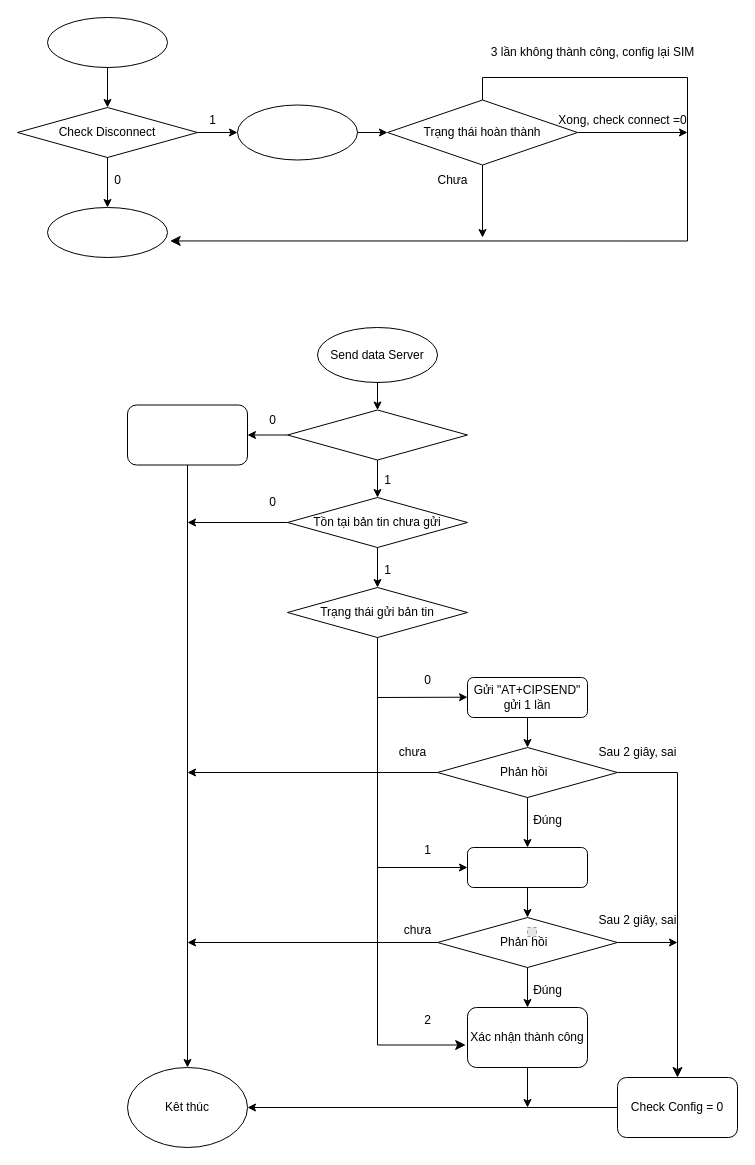
This 755x1165 diagram has some shape labels left out. Grey dashed boxes stand in for pictures. Each missing label, with the centre of its shape:
Check Disconnect Server: (x=107, y=42)
Check Send_data: (x=377, y=434)
Connect SIM: (x=297, y=132)
Gửi bản tin gửi 1 lần: (x=527, y=867)
Kết thúc: (x=107, y=232)
Nếu có tin hiệu thì đống gói bản tin: (x=187, y=434)
